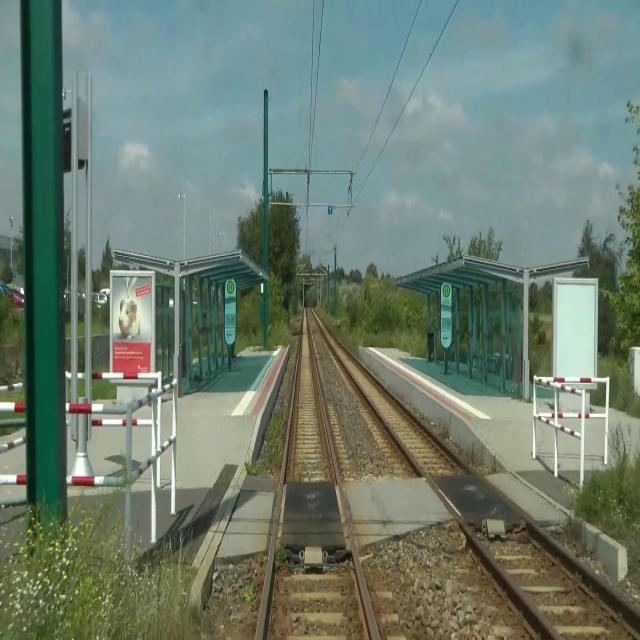rail-track: (319, 319, 640, 639), (261, 308, 371, 639)
